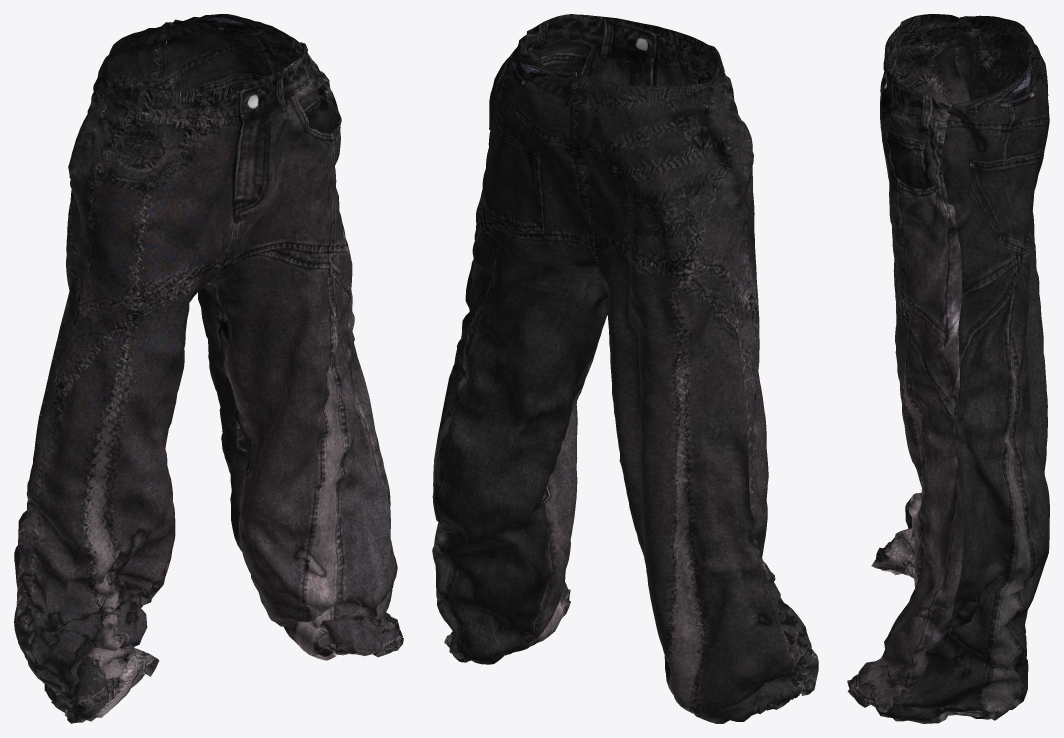
The model's file is walk_jeans_2XL.glb.
The picture shows the model from 3 angles, left to right: view 1: azimuth 30°, elevation 25°; view 2: azimuth 150°, elevation 25°; view 3: azimuth 270°, elevation 25°; orthographic projection. The views are drawn at different scales.
Visible parts, largest first — view 1: WalkJeans; view 2: WalkJeans; view 3: WalkJeans.
Part boxes in pixels (bbox=[...]): WalkJeans: bbox=[14, 14, 403, 723]; WalkJeans: bbox=[432, 14, 818, 723]; WalkJeans: bbox=[847, 14, 1049, 723].
Bounding box in the file's own units: 0.6112 × 1.01 × 0.3065.
2 materials, 2 textured.
